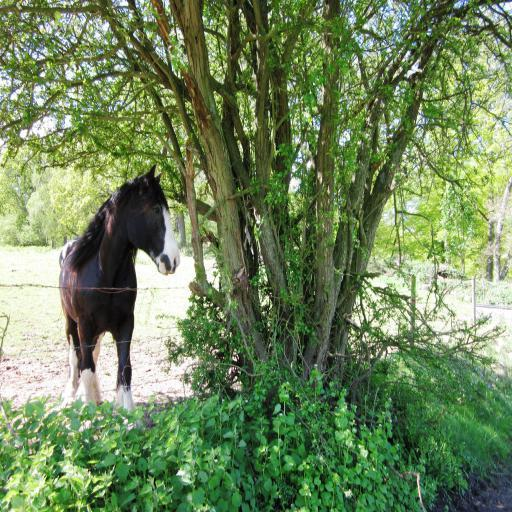horse: (60, 162, 180, 416)
